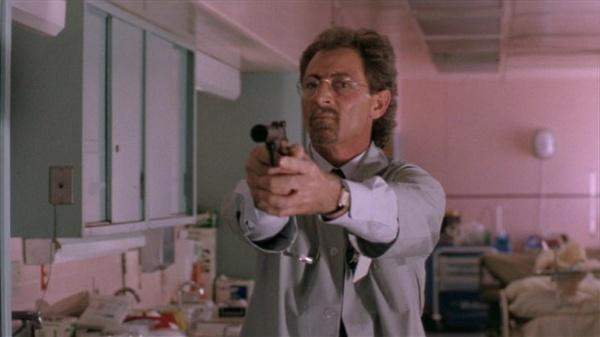Gun: (250, 121, 292, 168)
